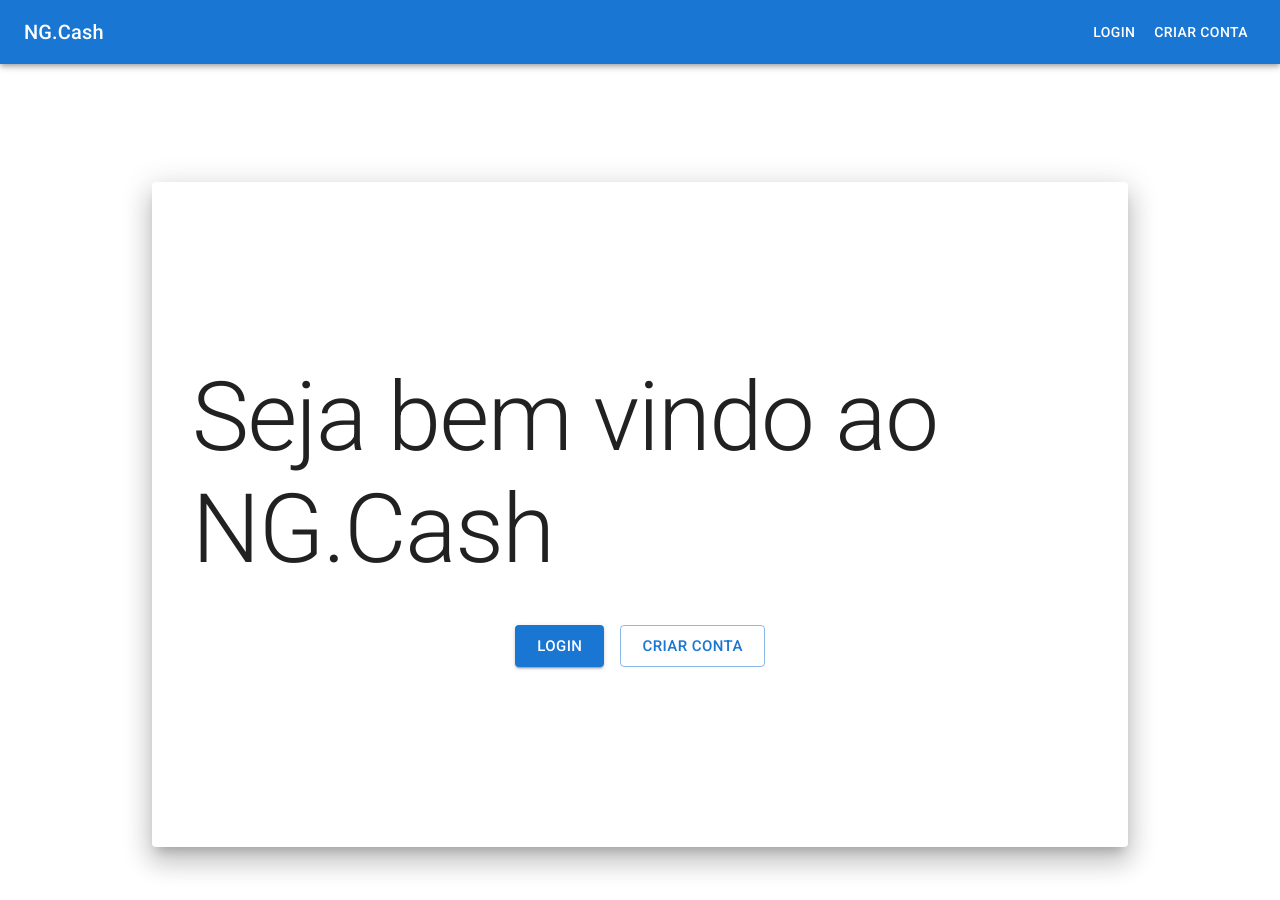
Scenario: Iniital page › Buttons behavior › Should redirect to register page when navbar register button is clicked
Click the 1st button "Criar conta".
click(1201, 32)  # box [1146, 14, 1256, 50]
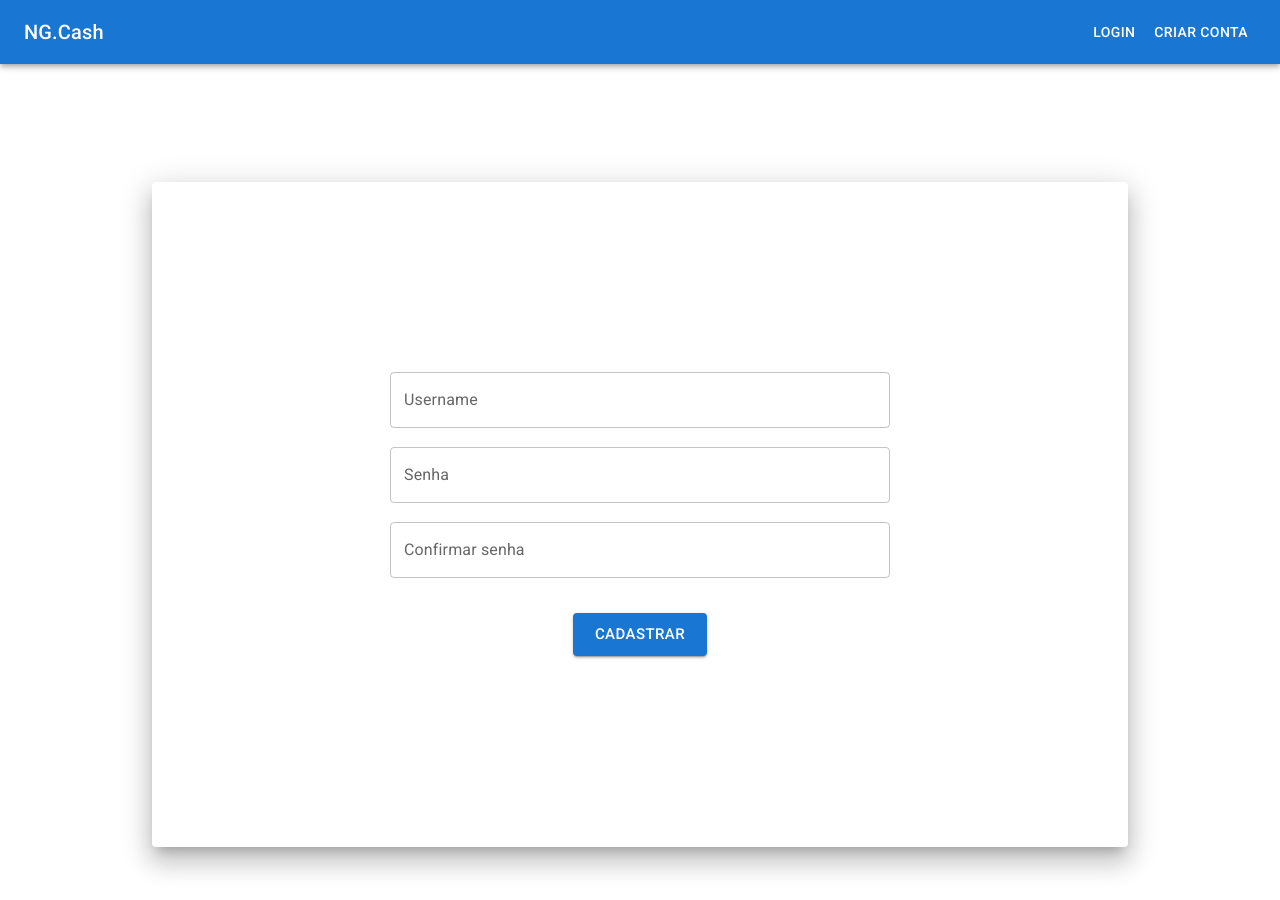
Now the password field labelled "Confirmar senha" is shown, box [390, 522, 890, 578]
